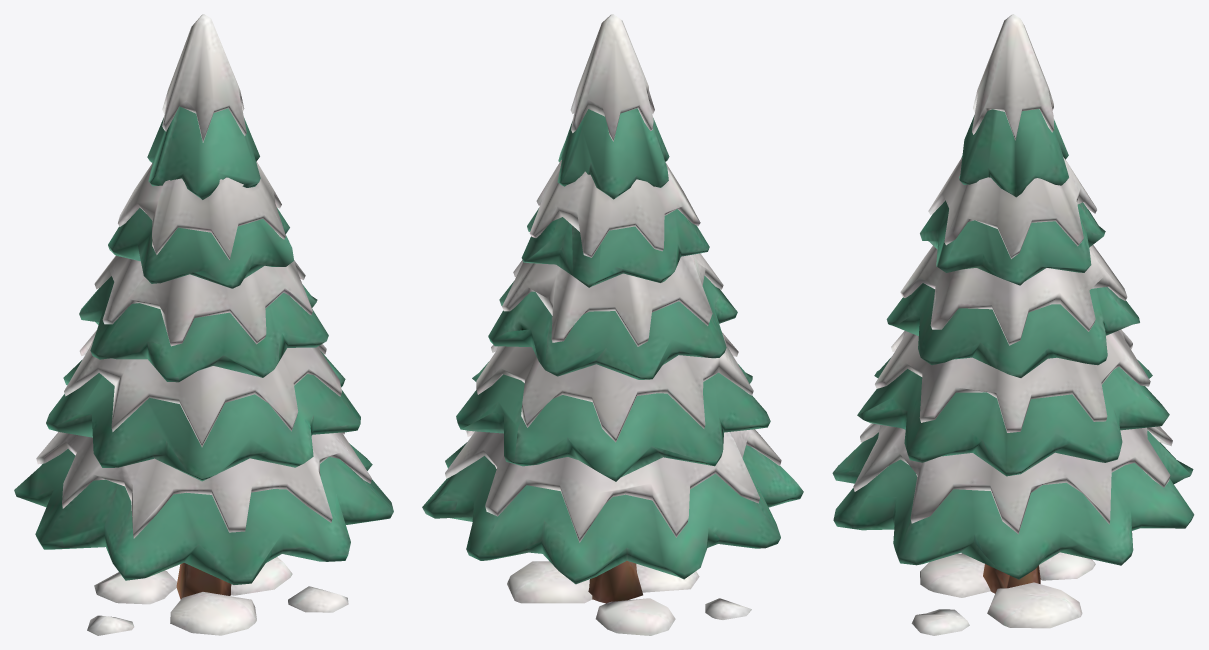
File: snowy-pine-tree.glb
The picture shows the model from 3 angles, left to right: view 1: azimuth 30°, elevation 25°; view 2: azimuth 150°, elevation 25°; view 3: azimuth 270°, elevation 25°; orthographic projection.
Parts seen in each view (by area): view 1: snowy-pine-tree_body; view 2: snowy-pine-tree_body; view 3: snowy-pine-tree_body.
Part boxes in pixels (<box>): snowy-pine-tree_body: <box>14,14,393,635</box>; snowy-pine-tree_body: <box>422,14,803,635</box>; snowy-pine-tree_body: <box>832,14,1194,635</box>.
Bounding box in the file's own units: 3.45 × 5.76 × 3.3.
1 material, 1 textured.
